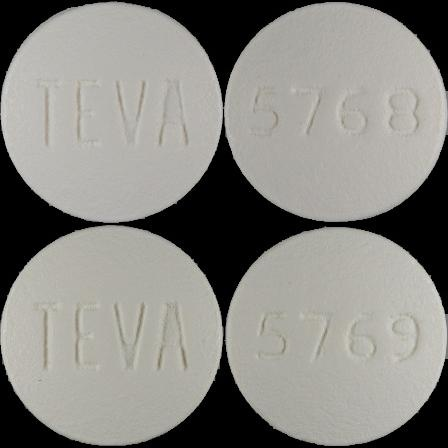0093-5768: (0, 0, 224, 224)
